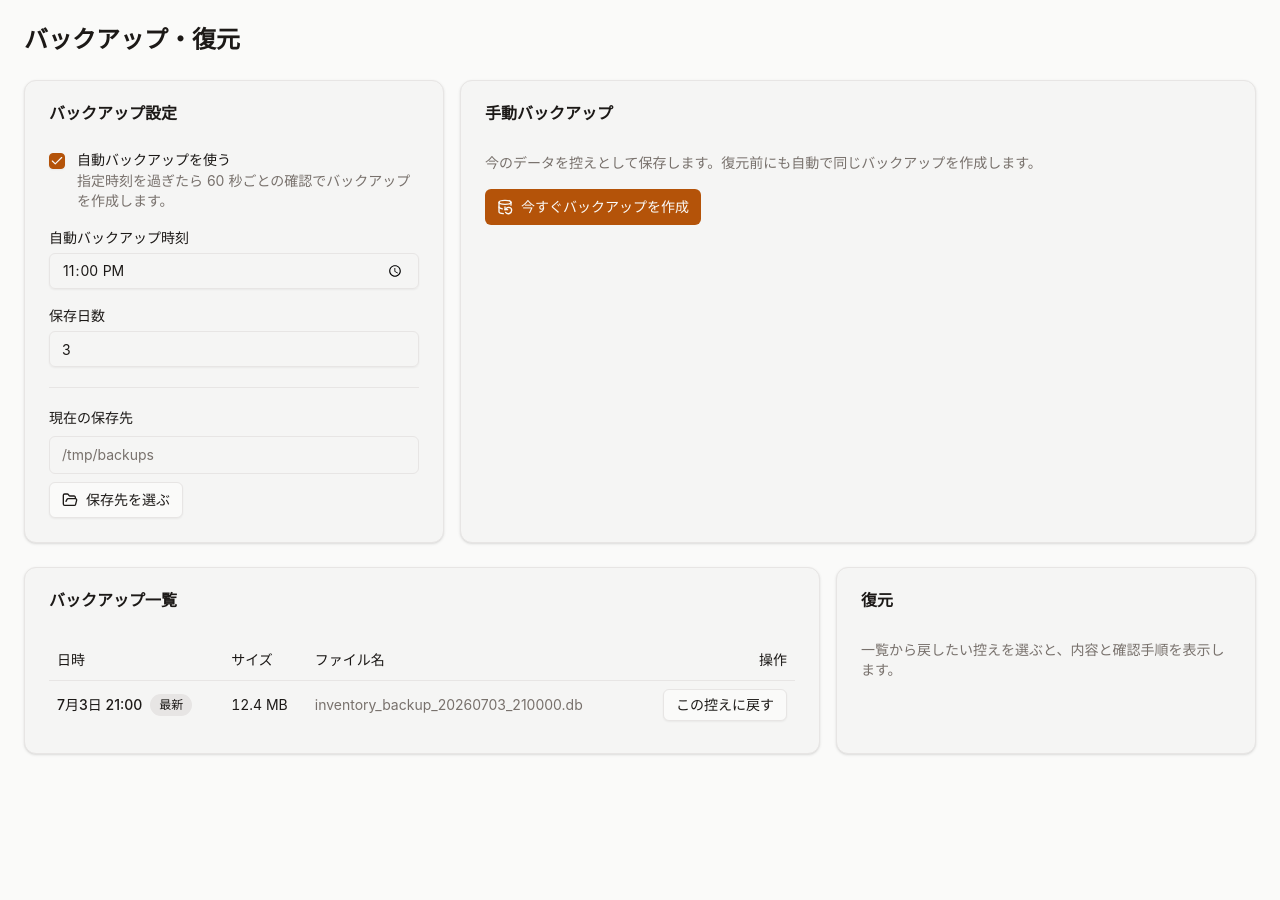
it: BackupRestorePage (UI-11b / QR-05 / REQ-905) › REQ-700 68 §68.7 shows error_id for restore_failed_recovered as a separate element
Check: the heading "バックアップ・復元" is shown, box left=24, top=25, right=240, bottom=54
Check: the text "7月3日 21:00" is shown, box left=57, top=696, right=142, bottom=712
Click the button "この控えに戻す" at (725,704), box left=663, top=688, right=787, bottom=720
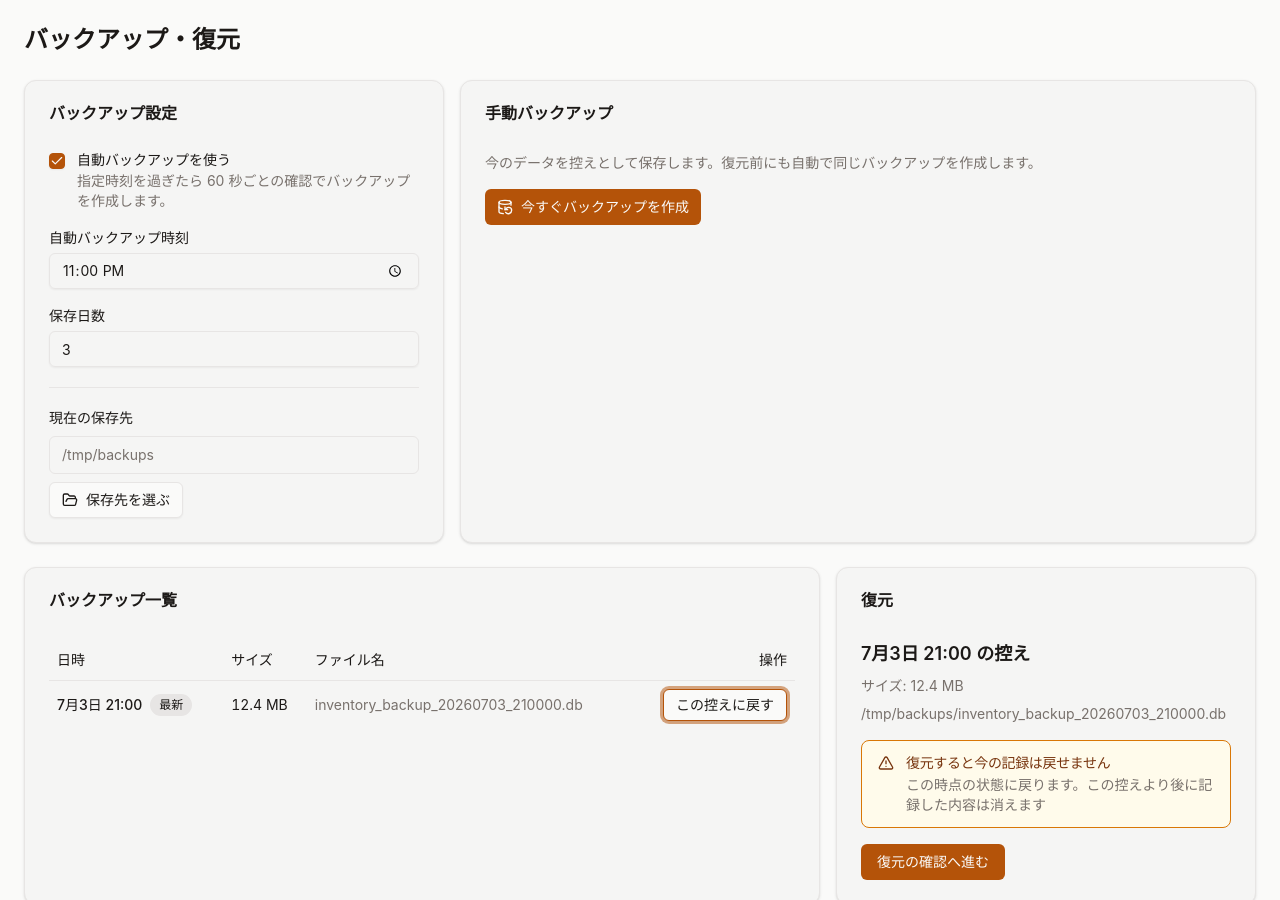
Check: the text "この時点の状態に戻ります。この控えより後に記録した内容は消えます" is shown, box left=906, top=775, right=1214, bottom=815
Click the button "復元の確認へ進む" at (933,862), box left=861, top=844, right=1005, bottom=880
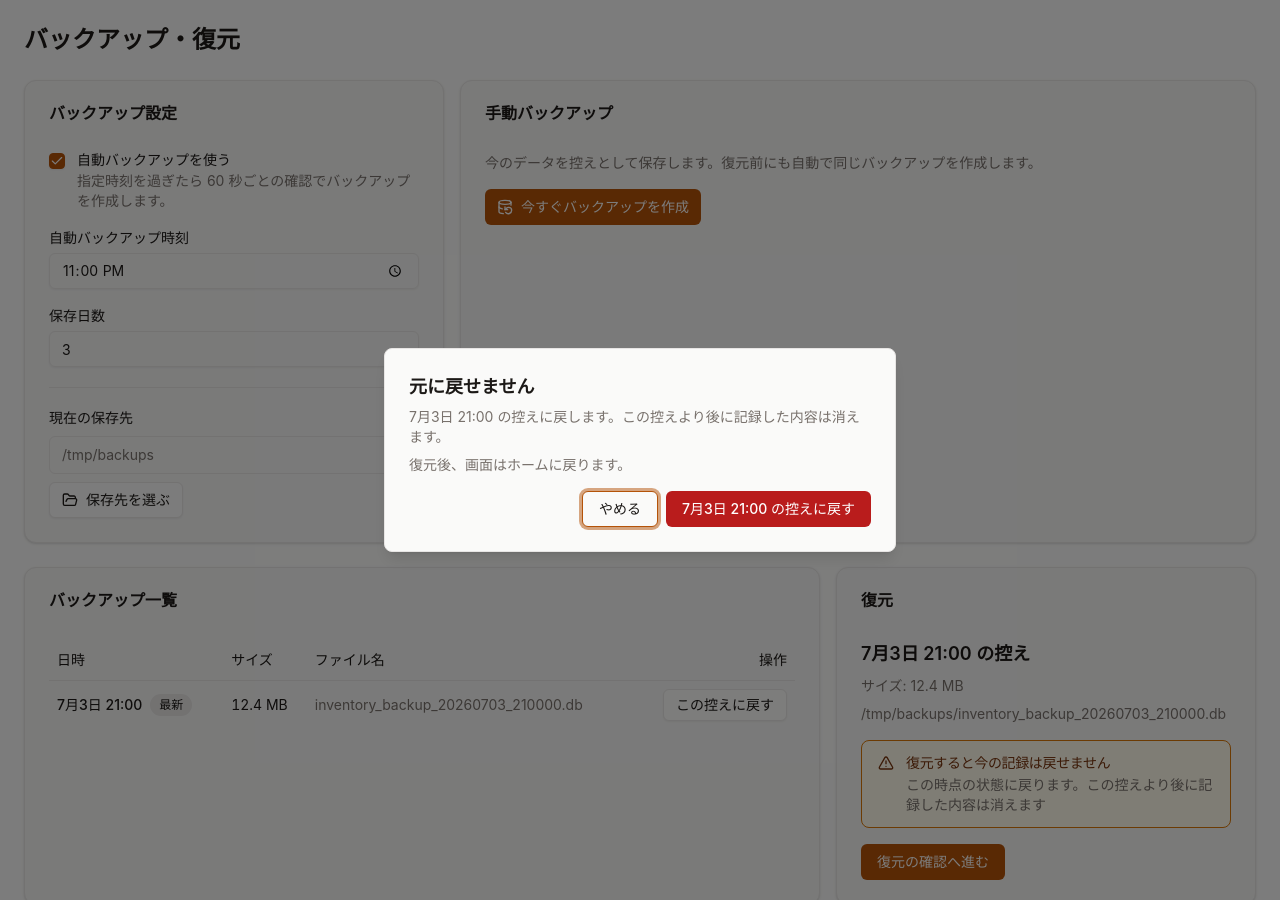
Click the button "7月3日 21:00 の控えに戻す" at (768,509), box left=666, top=491, right=871, bottom=527
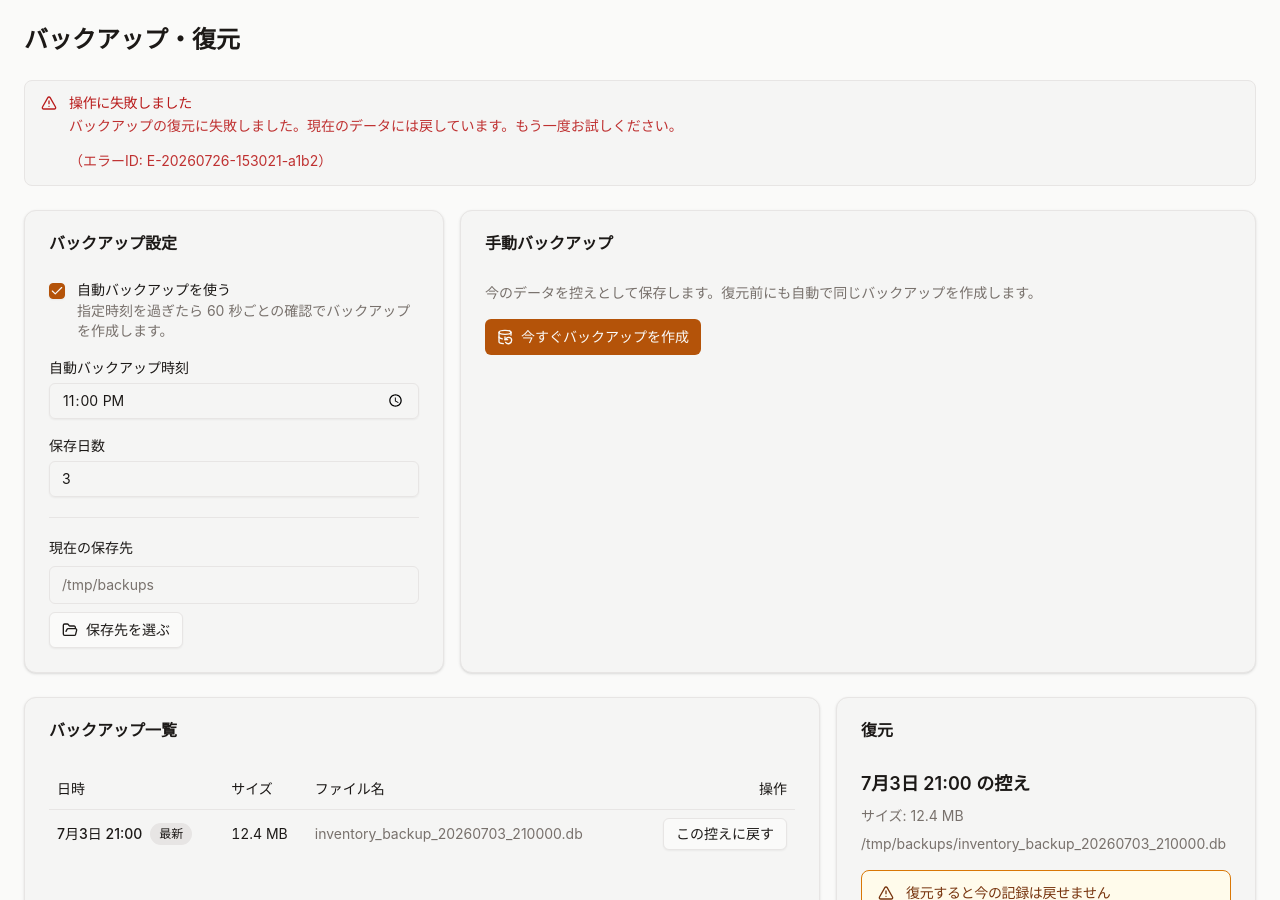
Check: the text "バックアップの復元に失敗しました。現在のデータには戻しています。もう一度お試しください。" is shown, box left=69, top=115, right=683, bottom=138
Check: the text "（エラーID: E-20260726-153021-a1b2）" is shown, box left=69, top=150, right=332, bottom=173
